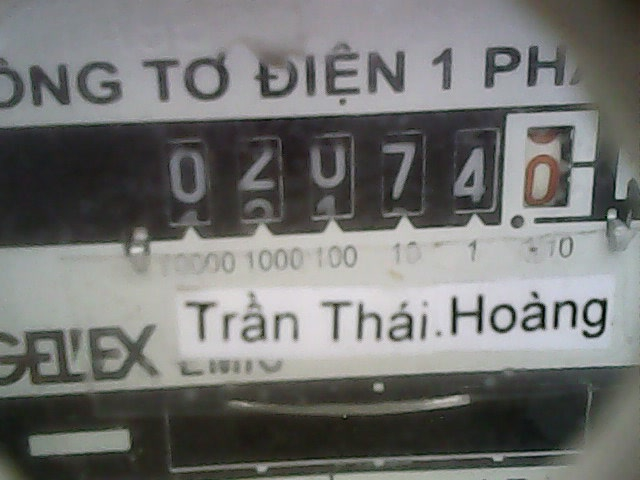phy_plate: (152, 103, 610, 237)
